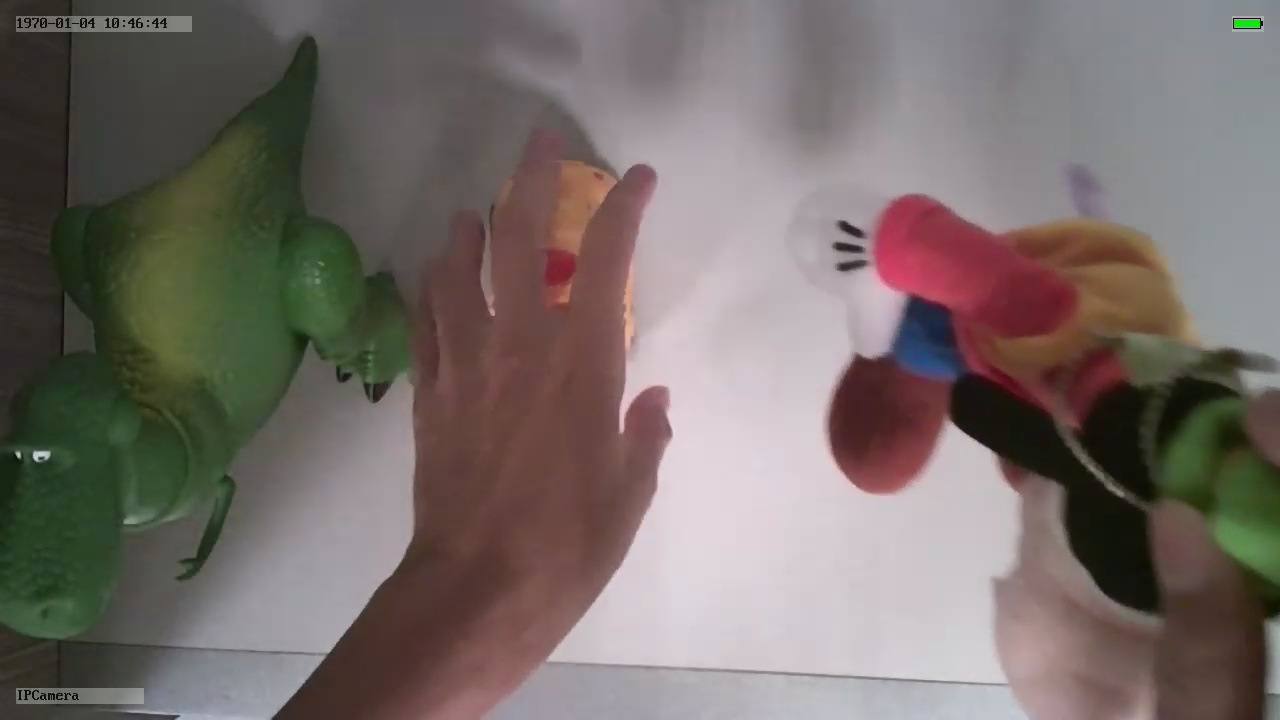rex: (1, 142, 399, 639)
